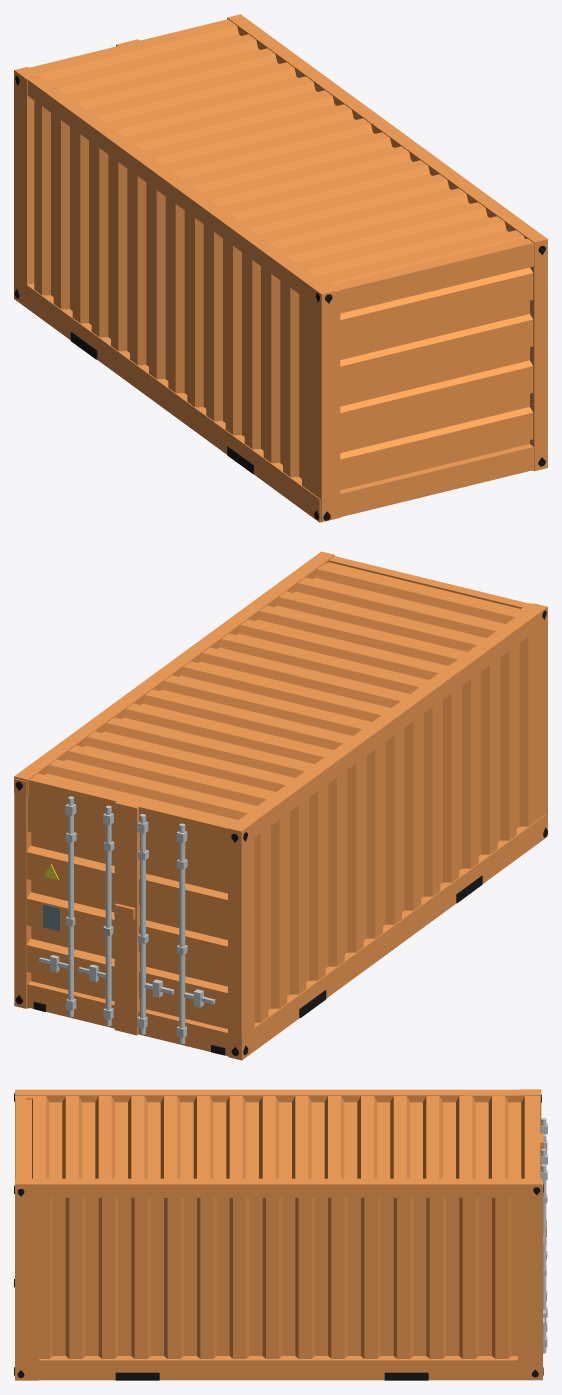
File: 1Con.fbx
The picture shows the model from 3 angles, top to bottom: view 1: azimuth 30°, elevation 25°; view 2: azimuth 150°, elevation 25°; view 3: azimuth 270°, elevation 25°; orthographic projection. The views are drawn at different scales.
Parts seen in each view (by area): view 1: Node; view 2: Node; view 3: Node.
Boxes of the visible parts, x1,y1,x2,y2 form: Node: (14,14,547,522); Node: (14,551,547,1060); Node: (14,1089,547,1380).
Size of the model in its own units: 134 by 128 by 316.
